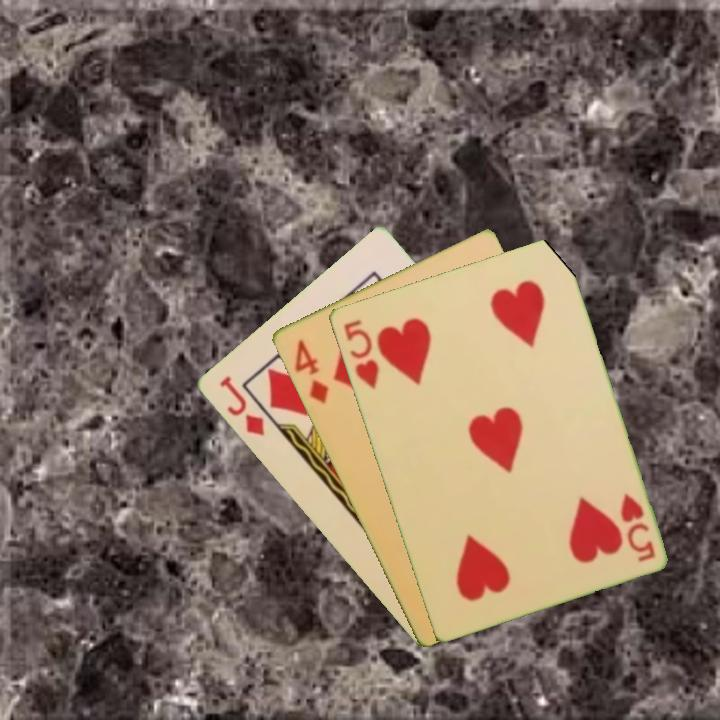4d: (290, 335, 331, 407)
5h: (339, 315, 381, 392), (616, 489, 658, 565)
Jd: (215, 372, 268, 439)
